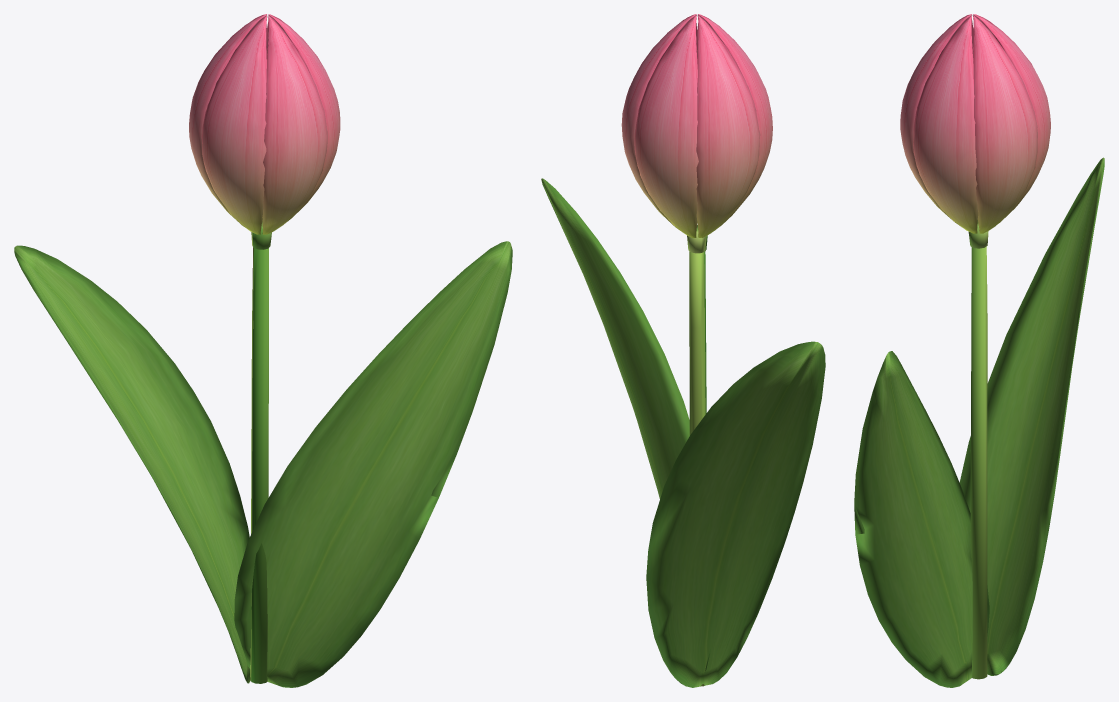
Rendered from NP_Tulip_BudForming_LOD1.fbx.
The picture shows the model from 3 angles, left to right: view 1: azimuth 30°, elevation 25°; view 2: azimuth 150°, elevation 25°; view 3: azimuth 270°, elevation 25°; orthographic projection.
Visible parts, largest first — view 1: NP_Tulip_BudForming; view 2: NP_Tulip_BudForming; view 3: NP_Tulip_BudForming.
Part boxes in pixels (<box>): NP_Tulip_BudForming: <box>14,14,512,687</box>; NP_Tulip_BudForming: <box>541,14,825,687</box>; NP_Tulip_BudForming: <box>854,14,1104,687</box>.
Size of the model in its own units: 53.87 by 88.51 by 30.14.
